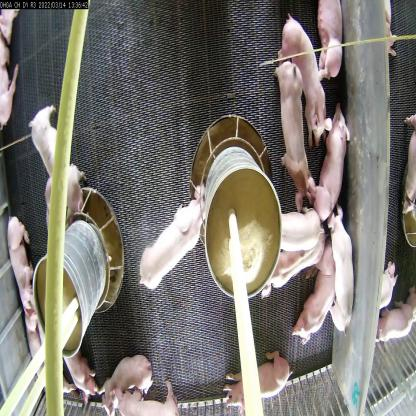Pig: (277, 6, 334, 145), (138, 186, 209, 291), (274, 53, 311, 214), (318, 102, 354, 228), (222, 350, 290, 416), (259, 242, 334, 299), (95, 344, 150, 415), (34, 165, 94, 226), (10, 211, 44, 316), (308, 0, 348, 87), (298, 245, 334, 340), (329, 213, 358, 323), (31, 111, 69, 190), (267, 200, 321, 249), (62, 342, 102, 405), (114, 377, 179, 415)
